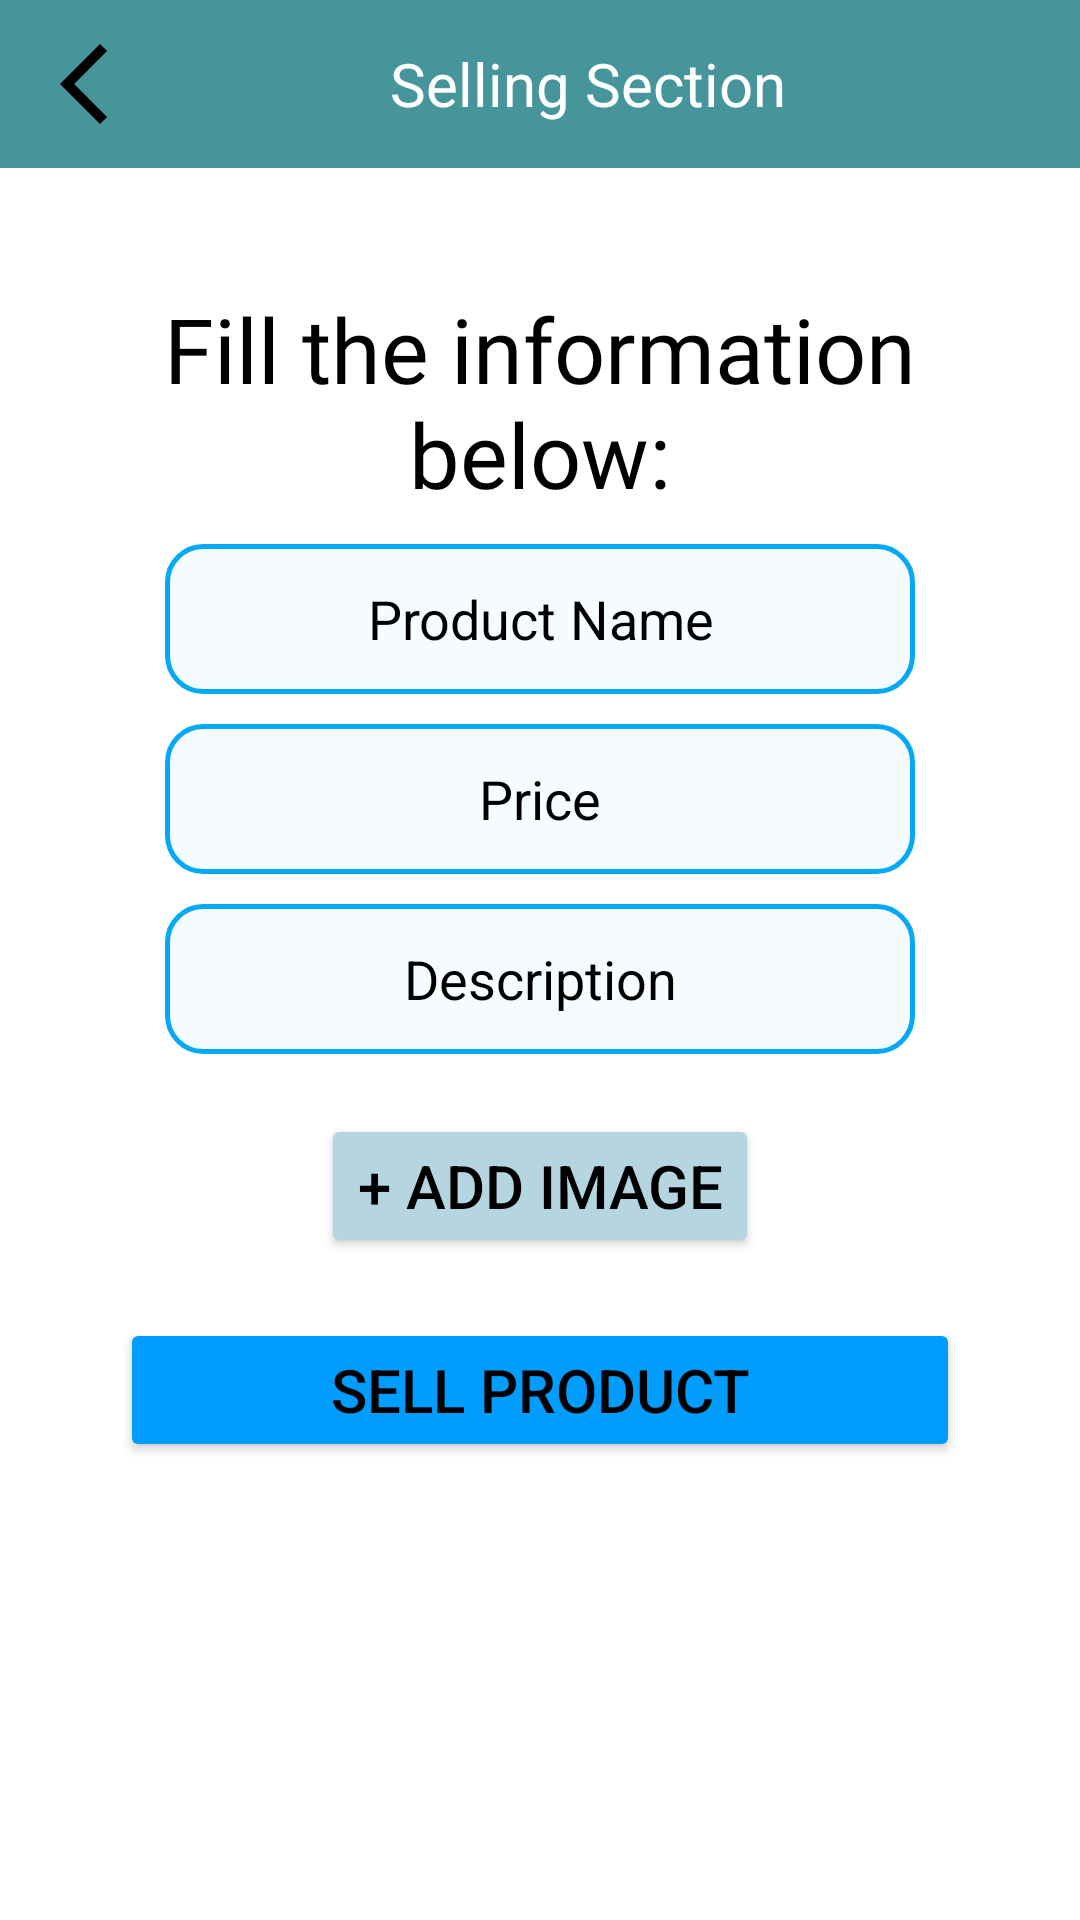

Screen size 1080 x 1920. Icon name, then its center in pixels as point (x, y):
Back: point (83, 84)
